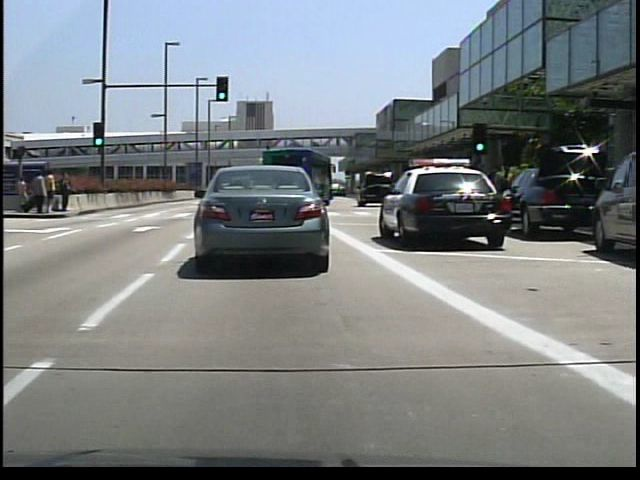person: (31, 170, 47, 215), (56, 170, 72, 214), (12, 173, 29, 214), (45, 167, 57, 215)
